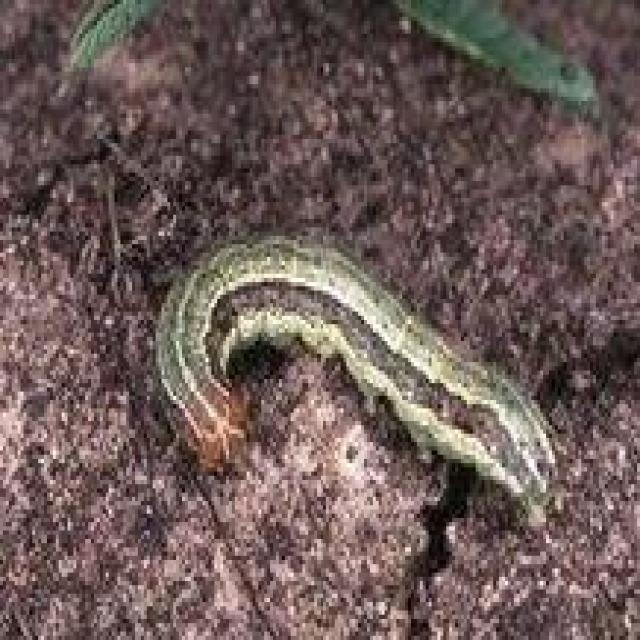BeetArmyWorm-Larva-: (132, 225, 574, 549)
